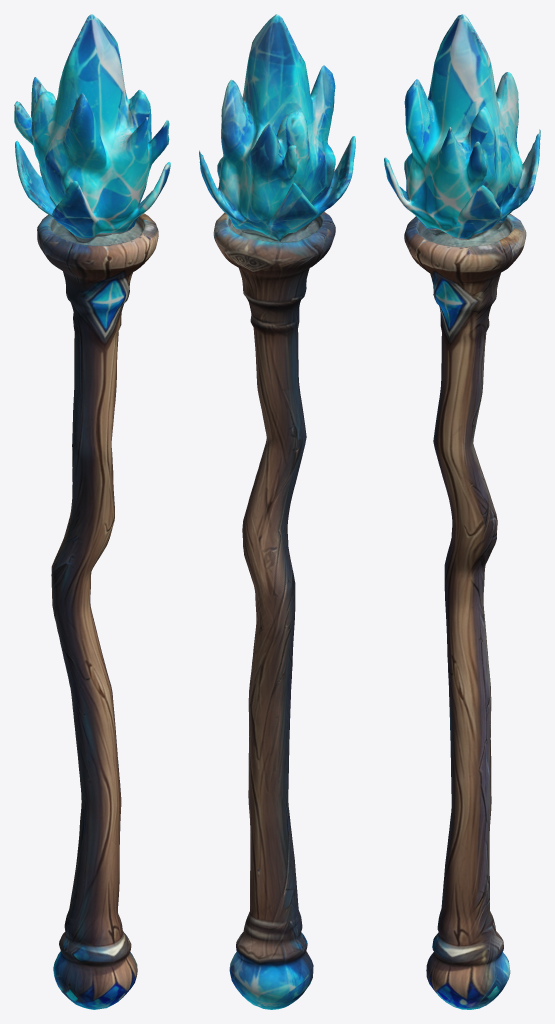
Rendered from druids-whisperwood.glb.
The picture shows the model from 3 angles, left to right: view 1: azimuth 30°, elevation 25°; view 2: azimuth 150°, elevation 25°; view 3: azimuth 330°, elevation 25°; orthographic projection.
Size of the model in its own units: 0.2348 by 1.99 by 0.2491.
Materials: 1 (1 with a texture image).
